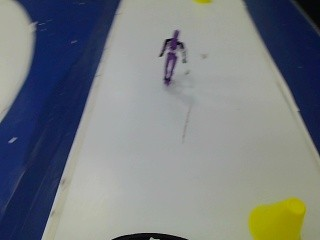cone: (244, 190, 311, 238)
pedestrian: (153, 22, 189, 92)
